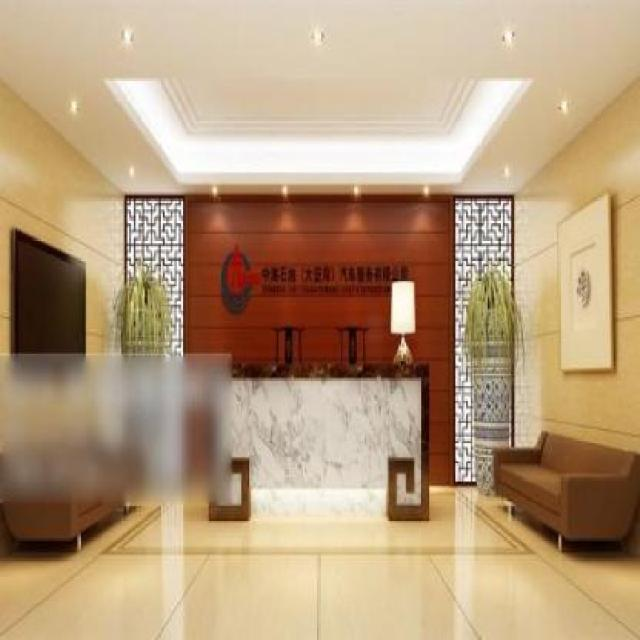frontdesk: (202, 345, 436, 539)
